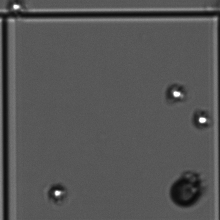Dead Cell: (167, 169, 207, 210)
Living Cell: (46, 182, 69, 205), (191, 108, 211, 131), (165, 84, 186, 104), (4, 1, 30, 16)
